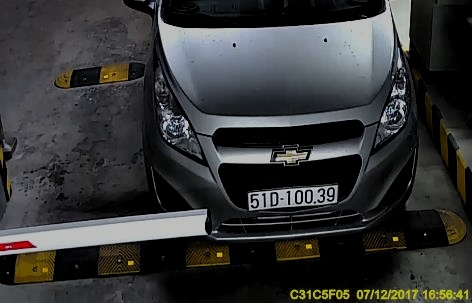plate: (249, 178, 343, 210)
